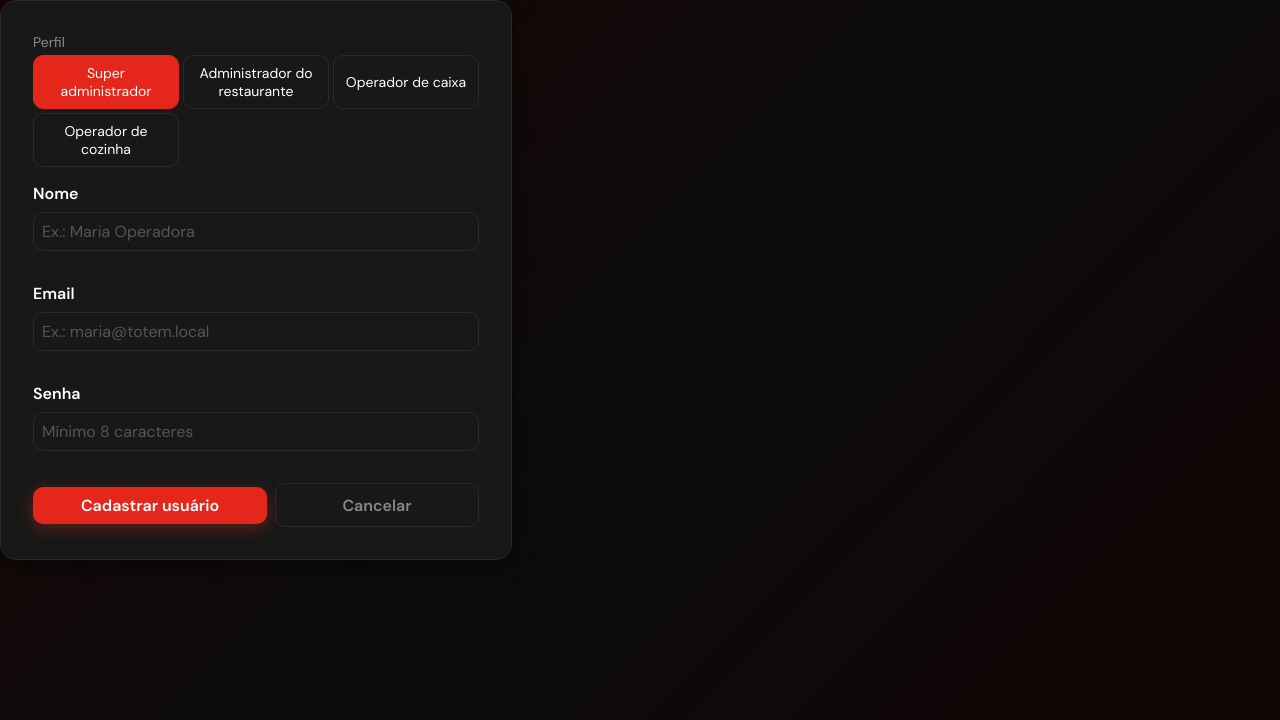
Test case: UsuarioForm › e-mail com formato inválido mostra mensagem acessível; corrigir remove o erro
Type "email-invalido" into the field labelled "Email" at (256, 332), box [33,312,479,351]
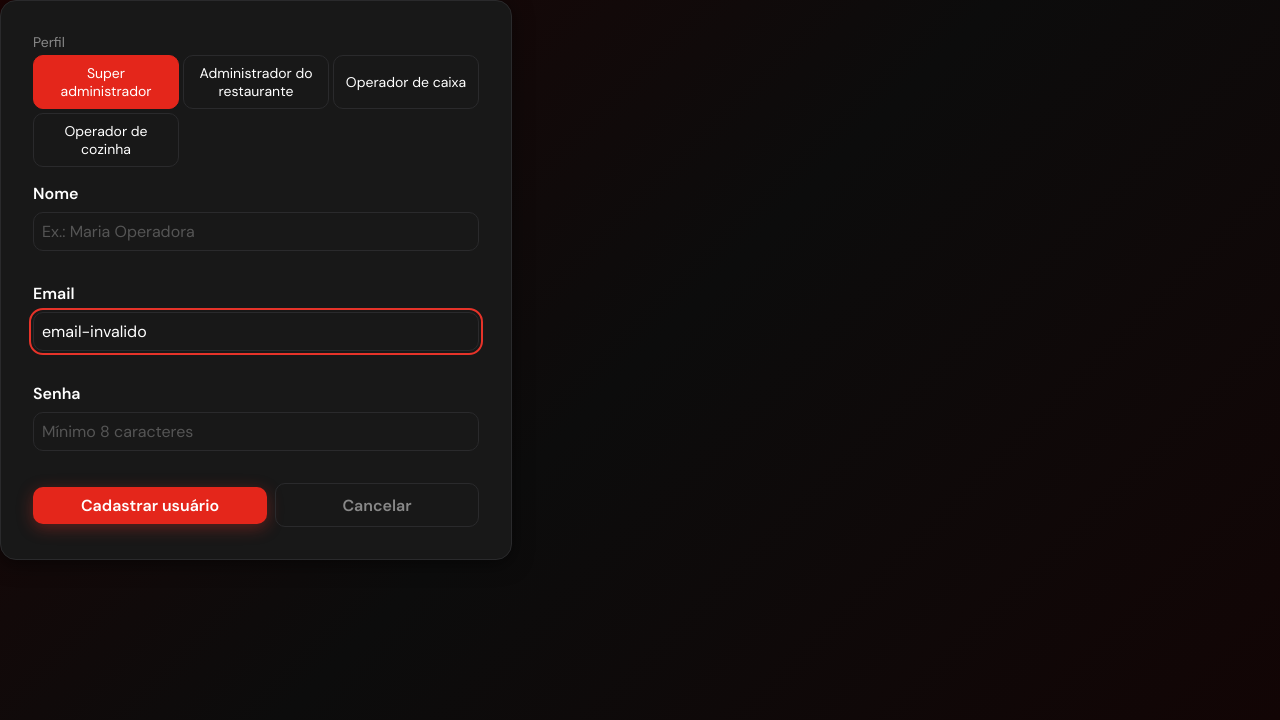
Click the button "Cadastrar usuário" at (150, 505), box [33,486,267,524]
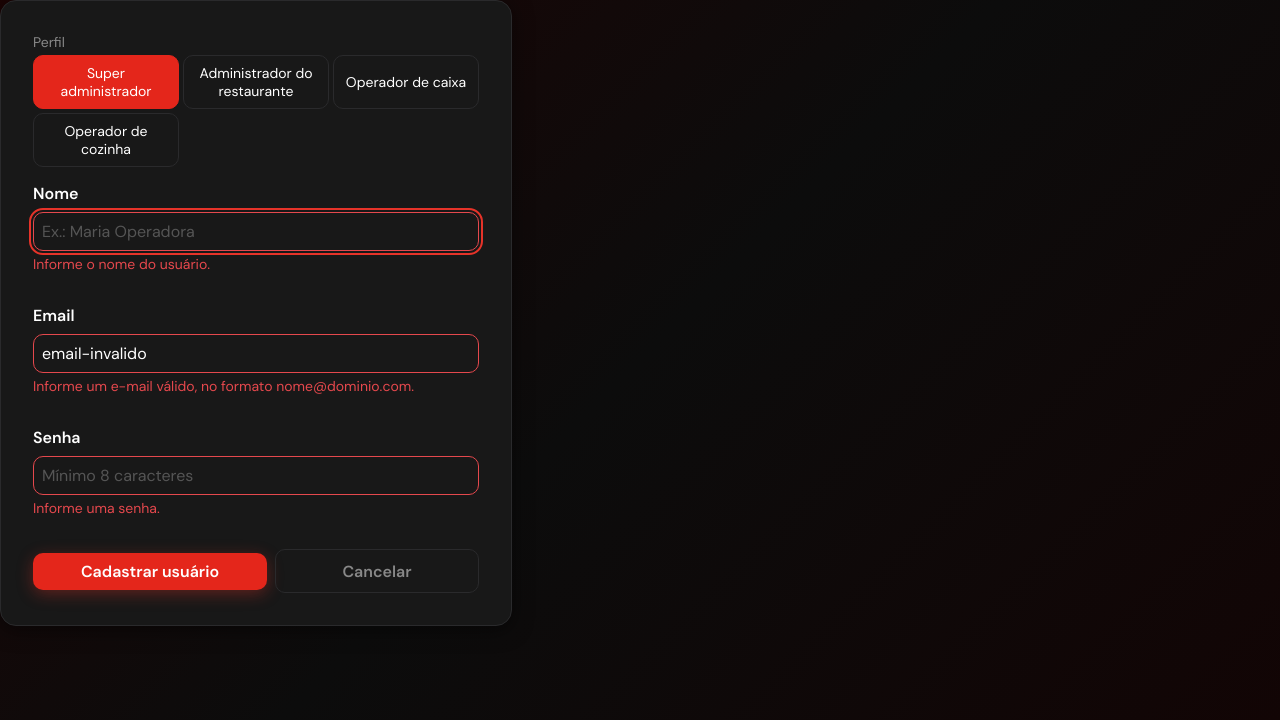
Expected: the text "Informe um e-mail válido, no formato nome@dominio.com." is shown, [33,377,479,395]
Replace the text in the field labelled "Email" with "maria@totem.local" at (256, 354), box [33,334,479,373]
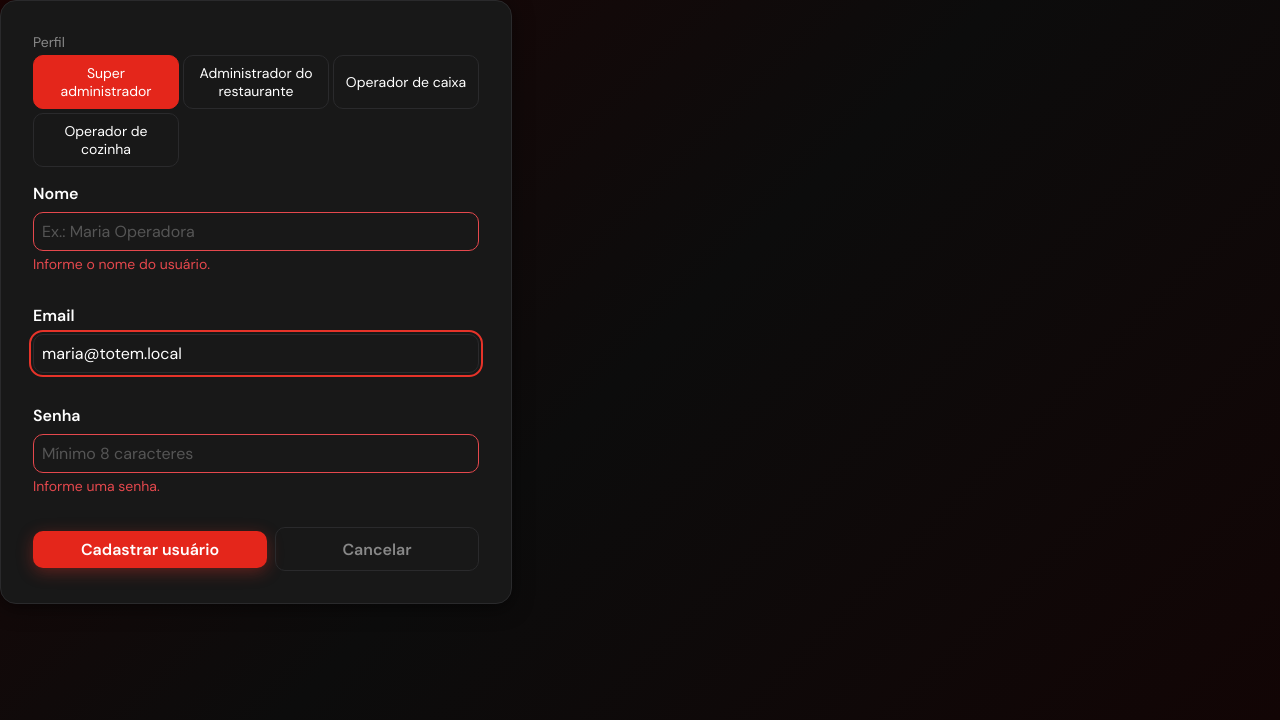
Expected: the text "Informe um e-mail válido" is gone
